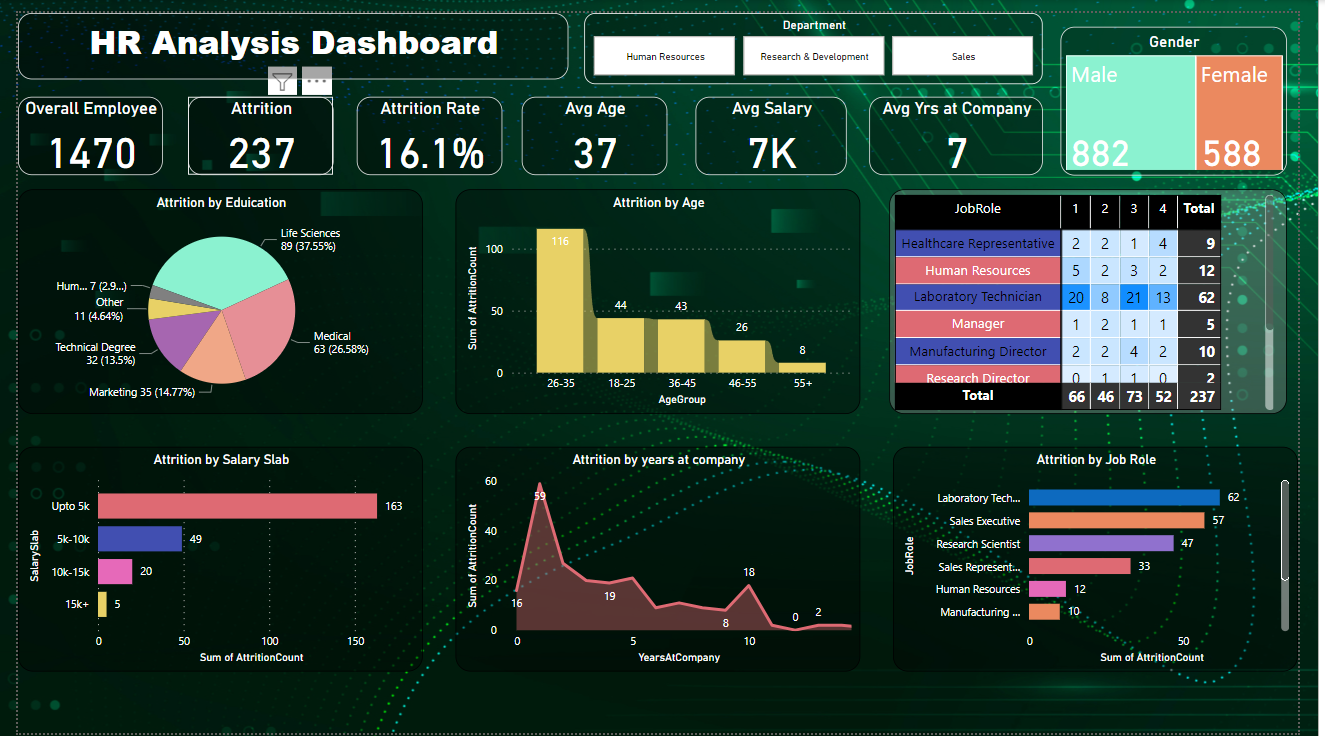

Layout of this report page (visuals, bound fields, positions):
{"tool":"powerbi","page":{"name":"Page 1","canvas":[1280,720],"ordinal":0},"visuals":[{"type":"card","title":"Overall Employee","fields":{"Values":["Sum(HR_Analytics.EmployeeCount)"]},"box":[0,83.8,145,78.8],"z":0},{"type":"card","title":"Attrition","fields":{"Values":["Sum(HR_Analytics.AttritionCount)"]},"box":[170,84.3,145.5,78.2],"z":1000},{"type":"card","title":"Attrition Rate","fields":{"Values":["HR_Analytics.Attrition Rate"]},"box":[338.7,84.3,145.5,78.2],"z":2000},{"type":"card","title":"Avg Age","fields":{"Values":["Avg(HR_Analytics.Age)"]},"box":[503.7,84.3,145.5,78.2],"z":3000},{"type":"textbox","box":[0,0,550,66.2],"z":4000},{"type":"card","title":"Avg Salary","fields":{"Values":["Avg(HR_Analytics.MonthlyIncome)"]},"box":[677,84,151.2,78.8],"z":5000},{"type":"card","title":" Avg Yrs at Company","fields":{"Values":["Avg(HR_Analytics.YearsAtCompany)"]},"box":[851.2,83.8,173.8,78.8],"z":6000},{"type":"treemap","title":" Gender","fields":{"Group":["HR_Analytics.Gender"],"Values":["CountNonNull(HR_Analytics.EmpID)"]},"box":[1042.5,13.8,226.2,148.8],"z":7000},{"type":"advancedSlicerVisual","fields":{"Values":["HR_Analytics.Department"]},"box":[566.2,0,458.8,71.2],"z":8000},{"type":"pieChart","title":"Attrition by Eduication","fields":{"Category":["HR_Analytics.EducationField"],"Y":["Sum(HR_Analytics.AttritionCount)"]},"box":[0,176.2,405,225],"z":9000},{"type":"columnChart","title":"Attrition by Age","fields":{"Category":["HR_Analytics.AgeGroup"],"Y":["Sum(HR_Analytics.AttritionCount)"]},"box":[437.5,176.2,405,225],"z":10000},{"type":"clusteredBarChart","title":"Attrition by Salary Slab","fields":{"Category":["HR_Analytics.SalarySlab"],"Y":["Sum(HR_Analytics.AttritionCount)"]},"box":[0,433.8,405,225],"z":11000},{"type":"areaChart","title":"Attrition by years at company","fields":{"Category":["HR_Analytics.YearsAtCompany"],"Y":["Sum(HR_Analytics.AttritionCount)"]},"box":[437.5,433.8,405,225],"z":12000},{"type":"barChart","title":"Attrition by Job Role","fields":{"Y":["Sum(HR_Analytics.AttritionCount)"],"Category":["HR_Analytics.JobRole"]},"box":[875,433.8,405,225],"z":13000},{"type":"pivotTable","fields":{"Rows":["HR_Analytics.JobRole"],"Columns":["HR_Analytics.JobSatisfaction"],"Values":["Sum(HR_Analytics.AttritionCount)"]},"box":[871.2,176.2,397.5,225],"z":14000}]}

Visuals, with their boxes in screenshot pixels (x1, y1, x2, y2), scaled from the page's 1280x720 canvas onto the 1325x736 screenshot:
"Overall Employee" card: region(0, 86, 150, 166)
"Attrition" card: region(176, 86, 327, 166)
"Attrition Rate" card: region(351, 86, 501, 166)
"Avg Age" card: region(521, 86, 672, 166)
textbox: region(0, 0, 569, 68)
"Avg Salary" card: region(701, 86, 857, 166)
" Avg Yrs at Company" card: region(881, 86, 1061, 166)
" Gender" treemap: region(1079, 14, 1313, 166)
advancedSlicerVisual - HR_Analytics.Department: region(586, 0, 1061, 73)
"Attrition by Eduication" pieChart: region(0, 180, 419, 410)
"Attrition by Age" columnChart: region(453, 180, 872, 410)
"Attrition by Salary Slab" clusteredBarChart: region(0, 443, 419, 673)
"Attrition by years at company" areaChart: region(453, 443, 872, 673)
"Attrition by Job Role" barChart: region(906, 443, 1324, 673)
pivotTable - HR_Analytics.JobRole x HR_Analytics.JobSatisfaction: region(902, 180, 1313, 410)
